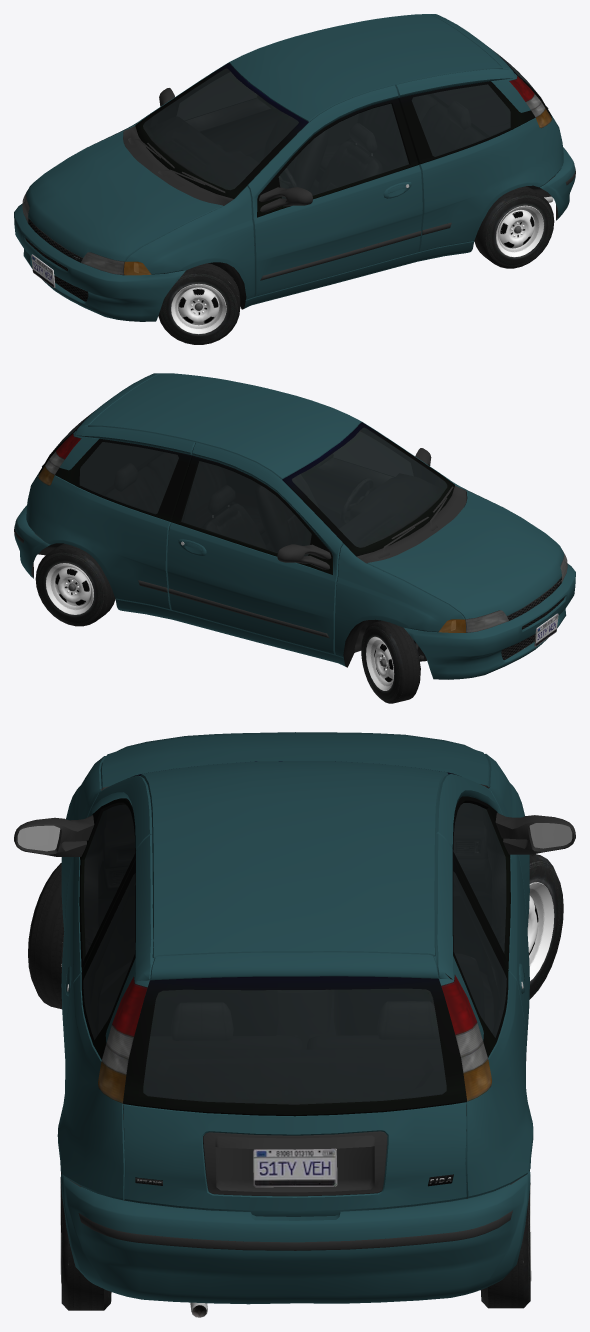
The model's file is hatchback.glb.
The picture shows the model from 3 angles, top to bottom: view 1: azimuth 30°, elevation 25°; view 2: azimuth 150°, elevation 25°; view 3: azimuth 270°, elevation 25°; orthographic projection. The views are drawn at different scales.
Visible parts, largest first — view 1: Body_body_0, Door_FL_body_0, Hood_body_0, Windshield_UCB_GLASS_CLEAN_0, Seats_GEN4DR_INTERIOR_0, Door_Glass_FL_UCB_GLASS_CLEAN_0, Bumper_front_body_0, Bottom_UCB_BOTTOM_0, Wheel_FL_RB3_StampedEuro_chrome_0, Body_glass_UCB_GLASS_CLEAN_0, Wheel_RL_RB3_StampedEuro_chrome_0, Dashboard_GEN4DR_INTERIOR_0 (+12 smaller); view 2: Body_body_0, Door_FR_body_0, Hood_body_0, Windshield_UCB_GLASS_CLEAN_0, Seats_GEN4DR_INTERIOR_0, Door_Glass_FR_UCB_GLASS_CLEAN_0, Bumper_front_body_0, Bottom_UCB_BOTTOM_0, Body_glass_UCB_GLASS_CLEAN_0, Wheel_RR_RB3_StampedEuro_chrome_0, Dashboard_GEN4DR_INTERIOR_0, Wheel_FR_RB3_StampedEuro_chrome_0 (+12 smaller); view 3: Body_body_0, Bumper_rear_body_0, Trunkdoor_Glass_UCB_GLASS_CLEAN_0, Trunkdoor_body_0, interior_GEN4DR_INTERIOR_0, Trunkdoor_inner_UCB_BOTTOM_0, Seats_GEN4DR_INTERIOR_0, Hood_body_0, Body_glass_UCB_GLASS_CLEAN_0, Taillights_UCB_BOTTOM_0, Dashboard_GEN4DR_INTERIOR_0, Door_Glass_FR_UCB_GLASS_CLEAN_0 (+17 smaller).
Part boxes in pixels (x1=…): Body_body_0: x1=36, y1=14, x2=563, y2=308; Door_FL_body_0: x1=247, y1=85, x2=422, y2=296; Hood_body_0: x1=26, y1=132, x2=222, y2=261; Windshield_UCB_GLASS_CLEAN_0: x1=143, y1=68, x2=298, y2=190; Seats_GEN4DR_INTERIOR_0: x1=264, y1=95, x2=483, y2=192; Door_Glass_FL_UCB_GLASS_CLEAN_0: x1=278, y1=103, x2=408, y2=198; Bumper_front_body_0: x1=14, y1=203, x2=186, y2=321; Bottom_UCB_BOTTOM_0: x1=28, y1=63, x2=555, y2=309; Wheel_FL_RB3_StampedEuro_chrome_0: x1=158, y1=263, x2=240, y2=344; Body_glass_UCB_GLASS_CLEAN_0: x1=411, y1=84, x2=510, y2=156; Wheel_RL_RB3_StampedEuro_chrome_0: x1=474, y1=186, x2=554, y2=268; Dashboard_GEN4DR_INTERIOR_0: x1=143, y1=117, x2=287, y2=198; Body_body_0: x1=26, y1=373, x2=555, y2=666; Door_FR_body_0: x1=167, y1=442, x2=343, y2=654; Hood_body_0: x1=367, y1=491, x2=563, y2=619; Windshield_UCB_GLASS_CLEAN_0: x1=292, y1=427, x2=447, y2=547; Seats_GEN4DR_INTERIOR_0: x1=105, y1=452, x2=317, y2=555; Door_Glass_FR_UCB_GLASS_CLEAN_0: x1=181, y1=461, x2=311, y2=556; Bumper_front_body_0: x1=404, y1=563, x2=575, y2=679; Bottom_UCB_BOTTOM_0: x1=34, y1=422, x2=561, y2=667; Body_glass_UCB_GLASS_CLEAN_0: x1=79, y1=442, x2=178, y2=514; Wheel_RR_RB3_StampedEuro_chrome_0: x1=35, y1=543, x2=115, y2=626; Dashboard_GEN4DR_INTERIOR_0: x1=339, y1=474, x2=446, y2=547; Wheel_FR_RB3_StampedEuro_chrome_0: x1=361, y1=620, x2=420, y2=703; Body_body_0: x1=57, y1=754, x2=533, y2=1200; Bumper_rear_body_0: x1=61, y1=1171, x2=530, y2=1304; Trunkdoor_Glass_UCB_GLASS_CLEAN_0: x1=143, y1=988, x2=446, y2=1104; Trunkdoor_body_0: x1=123, y1=952, x2=466, y2=1216; interior_GEN4DR_INTERIOR_0: x1=84, y1=873, x2=506, y2=1103; Trunkdoor_inner_UCB_BOTTOM_0: x1=123, y1=976, x2=466, y2=1216; Seats_GEN4DR_INTERIOR_0: x1=149, y1=954, x2=484, y2=1049; Hood_body_0: x1=100, y1=732, x2=489, y2=788; Body_glass_UCB_GLASS_CLEAN_0: x1=83, y1=871, x2=506, y2=1039; Taillights_UCB_BOTTOM_0: x1=98, y1=975, x2=491, y2=1102; Dashboard_GEN4DR_INTERIOR_0: x1=99, y1=803, x2=491, y2=898; Door_Glass_FR_UCB_GLASS_CLEAN_0: x1=453, y1=803, x2=506, y2=953.
Size of the model in its own units: 3.86 by 1.44 by 1.93.
8 materials, 7 textured.
